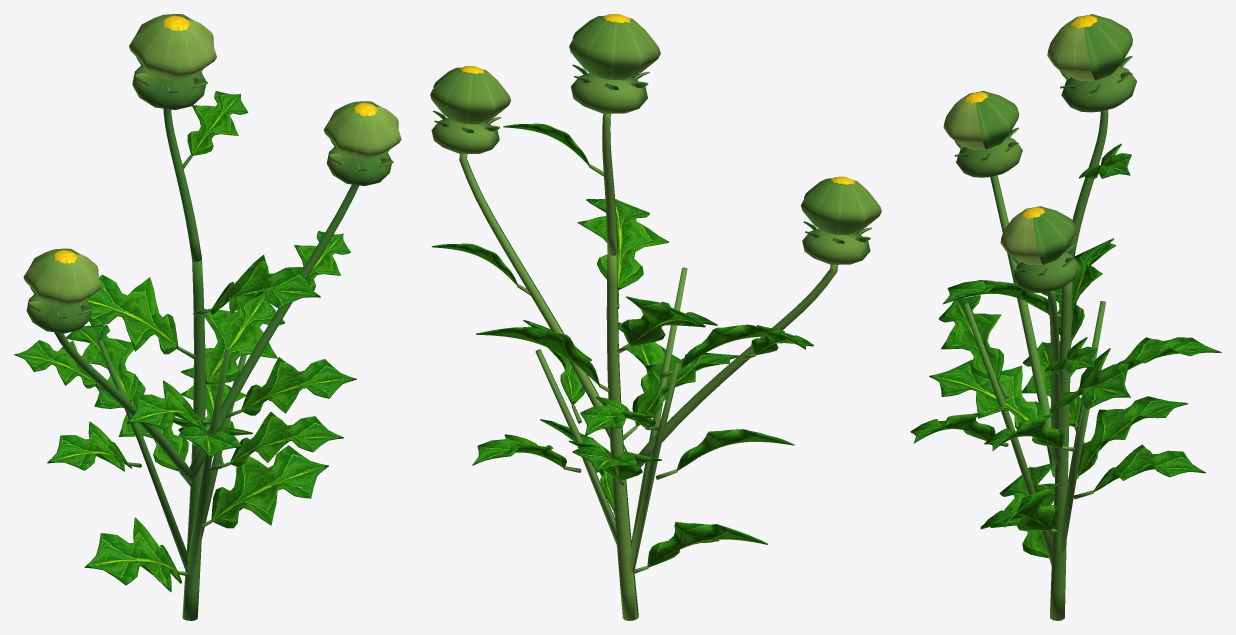
Rendered from NP_Chrysanthemum_BudForming.fbx.
3 renders of one model, left to right at view 1: azimuth 30°, elevation 25°; view 2: azimuth 150°, elevation 25°; view 3: azimuth 270°, elevation 25°, orthographic. The views are drawn at different scales.
Visible parts, largest first — view 1: NP_Chrysanthemum_BudForming; view 2: NP_Chrysanthemum_BudForming; view 3: NP_Chrysanthemum_BudForming.
Boxes of the visible parts, bbox=[...] form: NP_Chrysanthemum_BudForming: bbox=[14, 14, 401, 620]; NP_Chrysanthemum_BudForming: bbox=[430, 14, 881, 620]; NP_Chrysanthemum_BudForming: bbox=[910, 14, 1221, 620].
Size of the model in its own units: 53.03 by 75.53 by 35.51.
